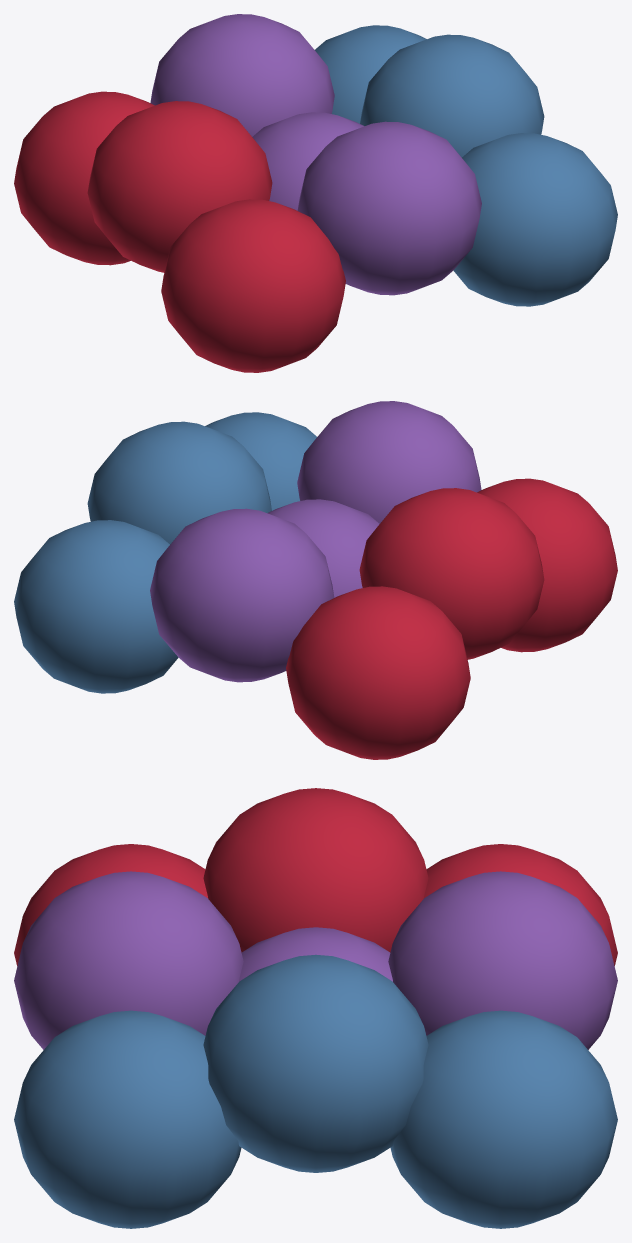
The model's file is crystal-berries.glb.
The picture shows the model from 3 angles, top to bottom: view 1: azimuth 30°, elevation 25°; view 2: azimuth 150°, elevation 25°; view 3: azimuth 270°, elevation 25°; orthographic projection. The views are drawn at different scales.
Parts seen in each view (by area): view 1: edible_berry.154, edible_berry.155, edible_berry.156, edible_berry.157, edible_berry.161, edible_berry.159, edible_berry.160, edible_berry.158, edible_berry.162; view 2: edible_berry.160, edible_berry.161, edible_berry.162, edible_berry.157, edible_berry.155, edible_berry.159, edible_berry.154, edible_berry.158, edible_berry.156; view 3: edible_berry.159, edible_berry.156, edible_berry.162, edible_berry.155, edible_berry.161, edible_berry.157, edible_berry.154, edible_berry.160, edible_berry.158.
Boxes of the visible parts, box(x1,y1,x2,y2) form: edible_berry.154: box(161, 199, 345, 372); edible_berry.155: box(297, 121, 481, 295); edible_berry.156: box(453, 133, 617, 306); edible_berry.157: box(87, 101, 272, 272); edible_berry.161: box(150, 14, 334, 136); edible_berry.159: box(360, 34, 544, 157); edible_berry.160: box(14, 91, 154, 265); edible_berry.158: box(252, 112, 364, 210); edible_berry.162: box(315, 25, 426, 123); edible_berry.160: box(286, 586, 470, 759); edible_berry.161: box(150, 508, 334, 682); edible_berry.162: box(14, 520, 178, 693); edible_berry.157: box(359, 488, 544, 659); edible_berry.155: box(297, 401, 481, 523); edible_berry.159: box(87, 421, 271, 544); edible_berry.154: box(477, 478, 617, 652); edible_berry.158: box(267, 499, 379, 597); edible_berry.156: box(205, 412, 316, 510); edible_berry.159: box(203, 954, 428, 1172); edible_berry.156: box(14, 1010, 241, 1228); edible_berry.162: box(390, 1010, 617, 1228); edible_berry.155: box(14, 871, 243, 1049); edible_berry.161: box(388, 871, 617, 1049); edible_berry.157: box(203, 788, 428, 952); edible_berry.154: box(14, 844, 208, 965); edible_berry.160: box(423, 844, 617, 965); edible_berry.158: box(239, 927, 392, 981).
Size of the model in its own units: 0.102 by 0.045 by 0.098.
